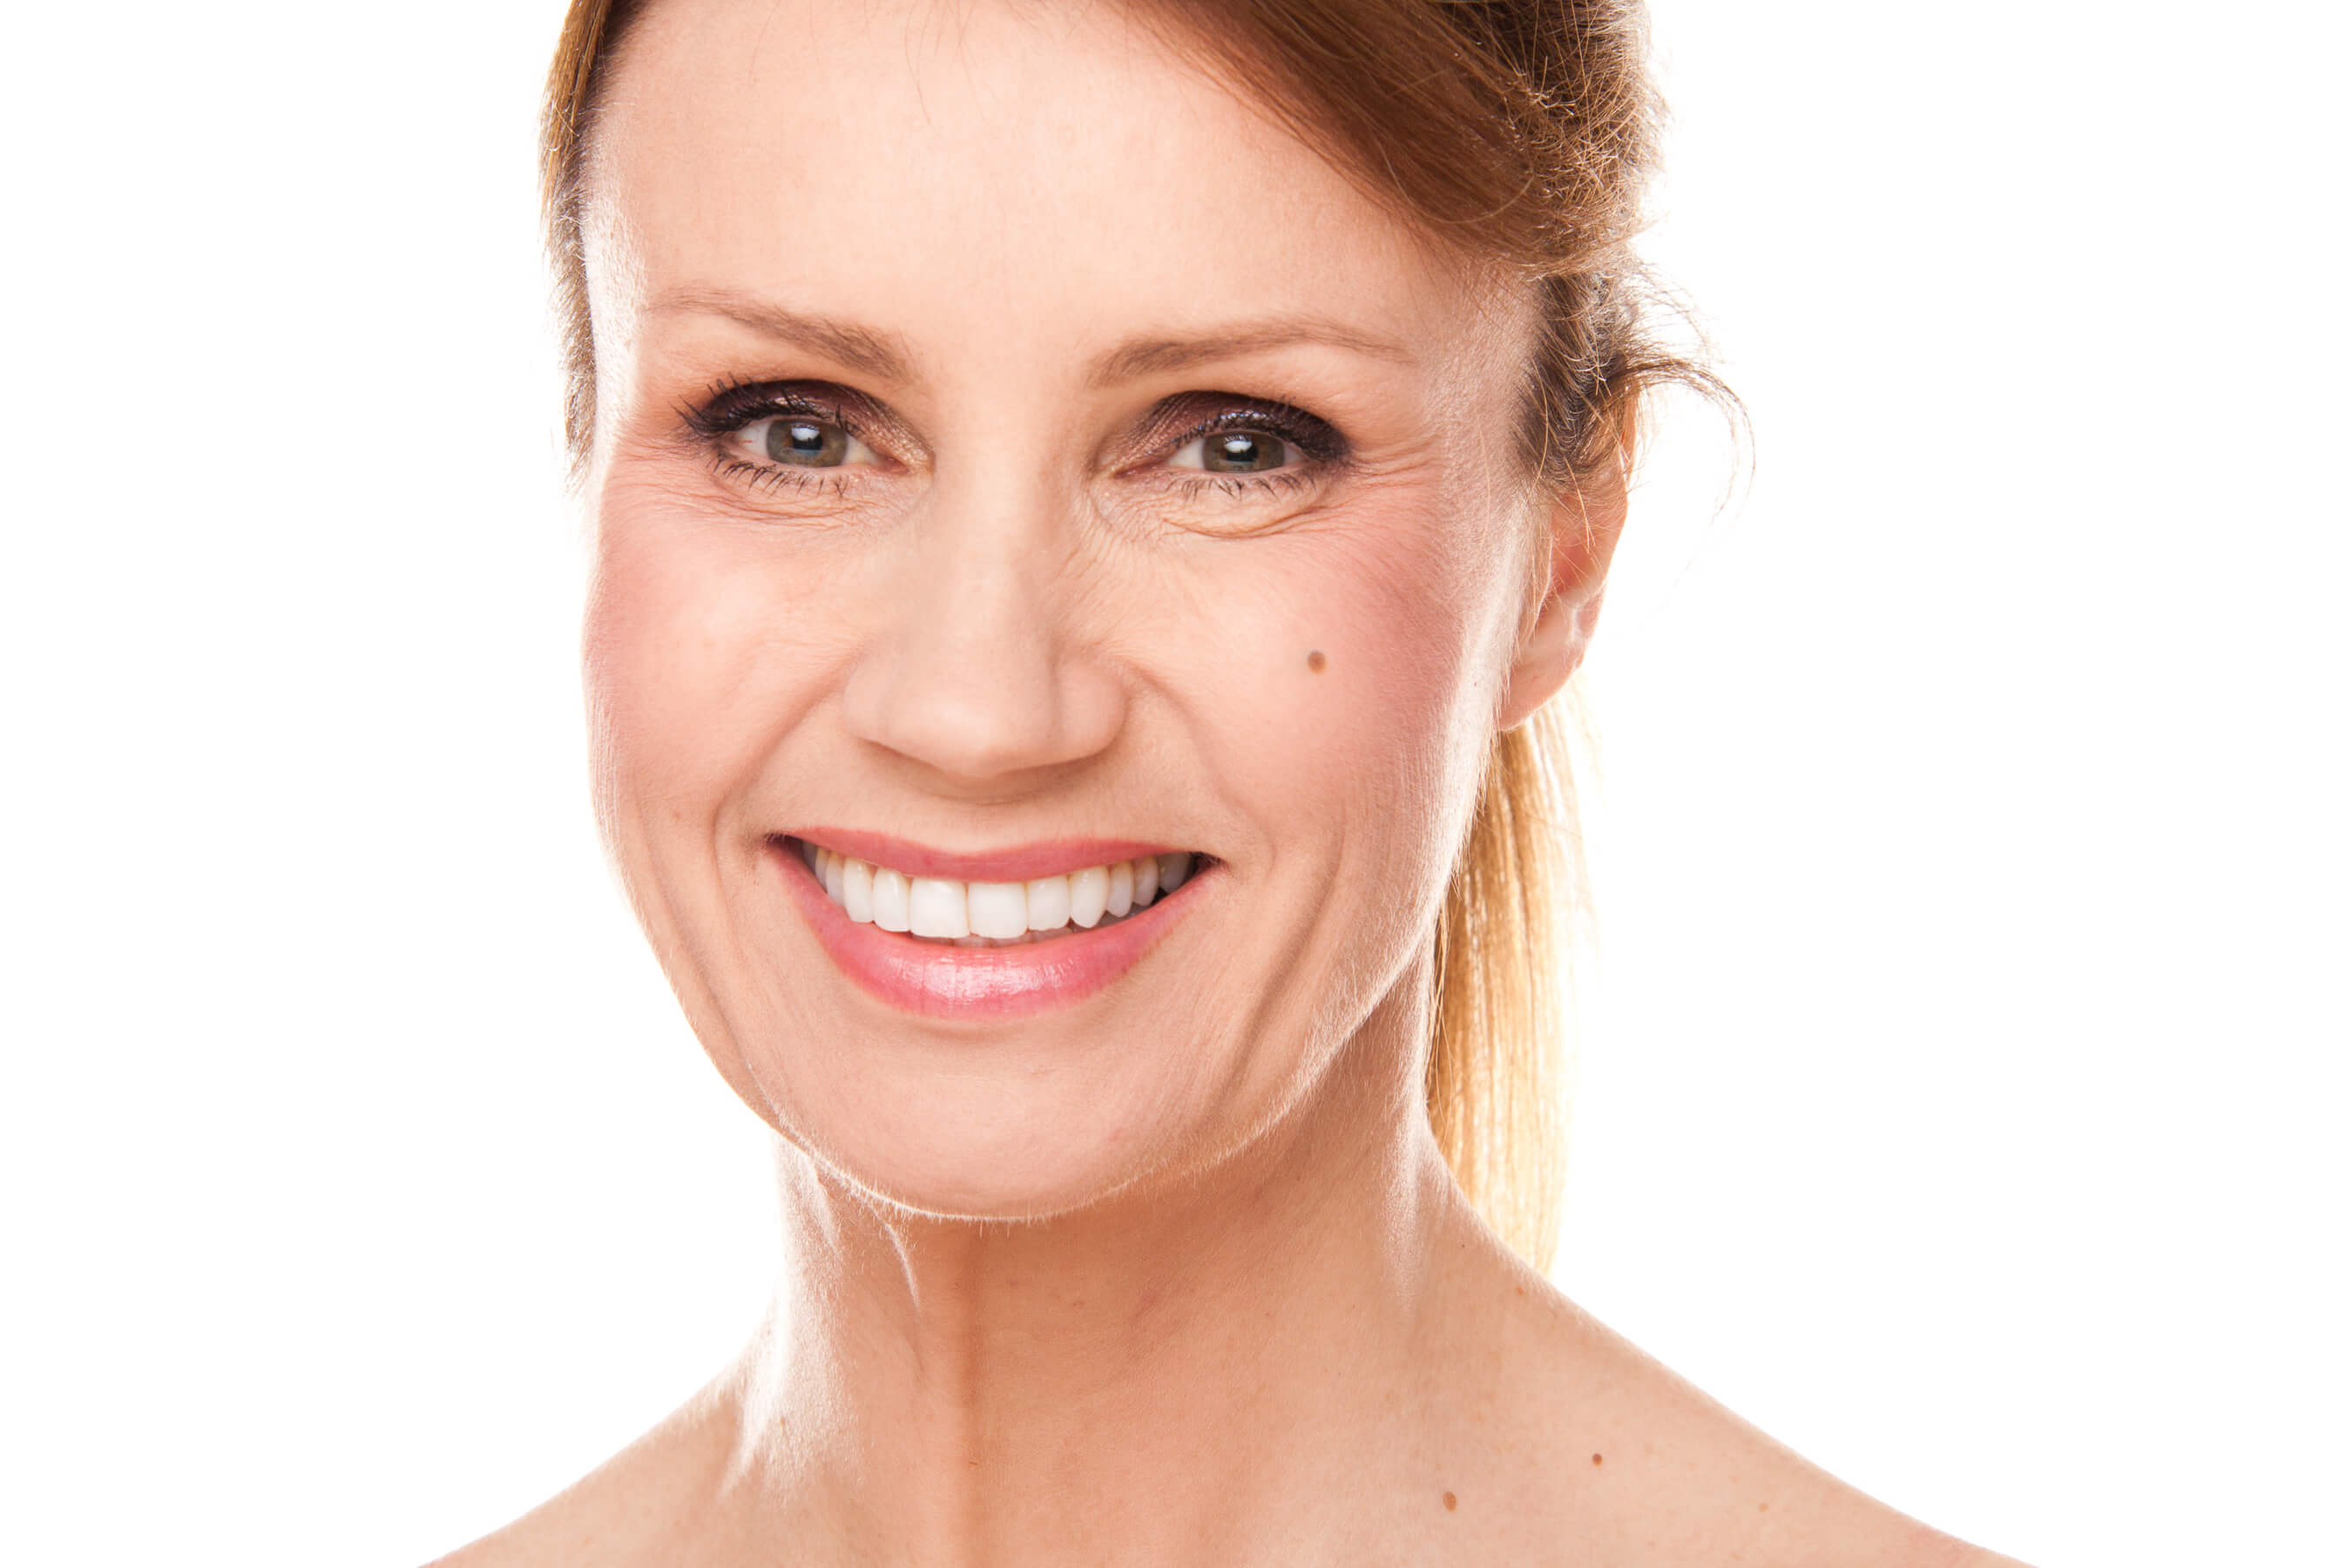mole: (1293, 633, 1344, 681), (1578, 1444, 1627, 1482), (1428, 1484, 1477, 1517)
